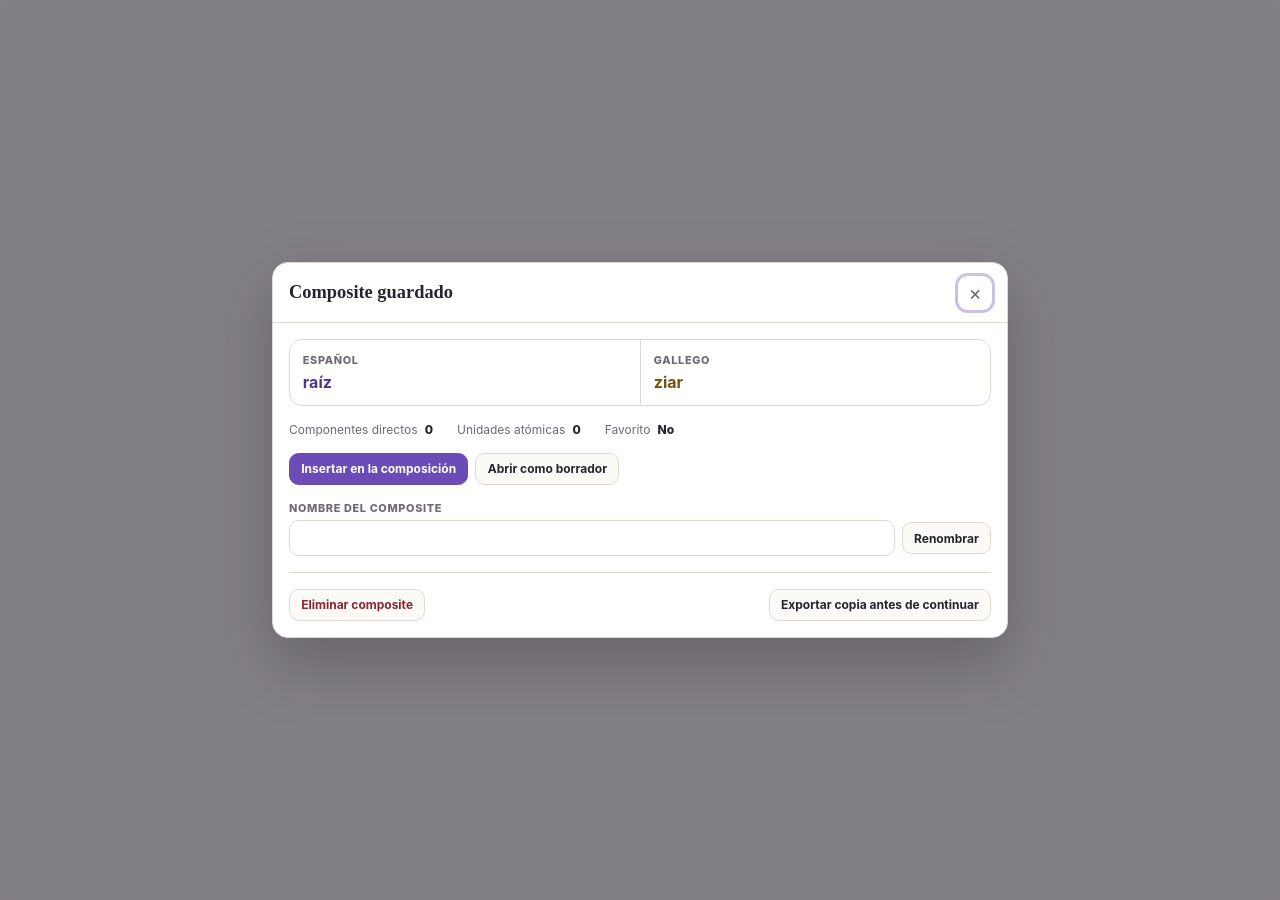
it: gestión visual de composites › explica las dependencias directas e indirectas sin ofrecer un borrado en cascada
Click the button "Eliminar composite".
click(357, 605)  # box [289,589,425,621]
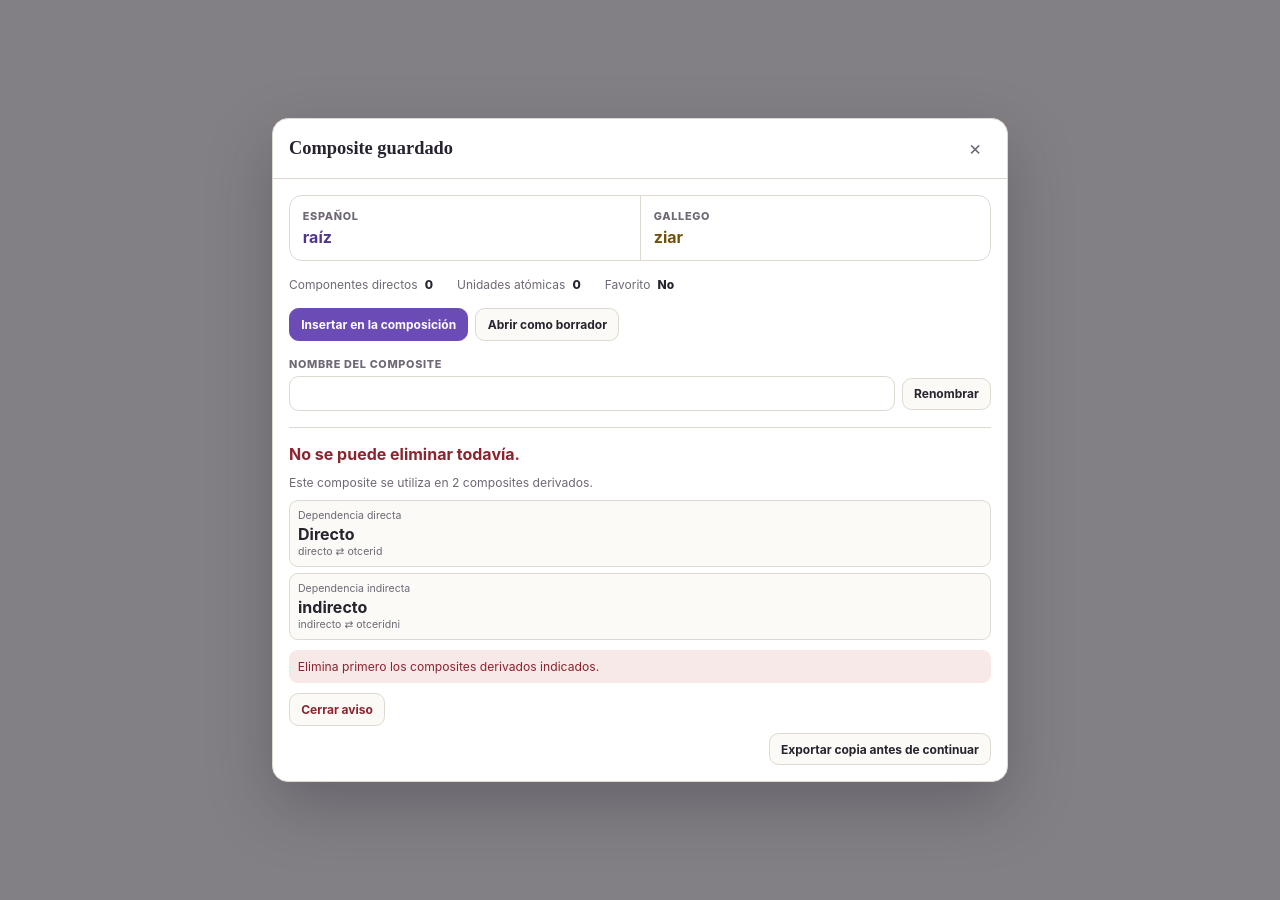
Now the text "Dependencia directa" is shown, box [298,509,401,522]
Now the text "Dependencia indirecta" is shown, box [298,582,410,595]
Now the text "Directo" is shown, box [298,524,354,544]
